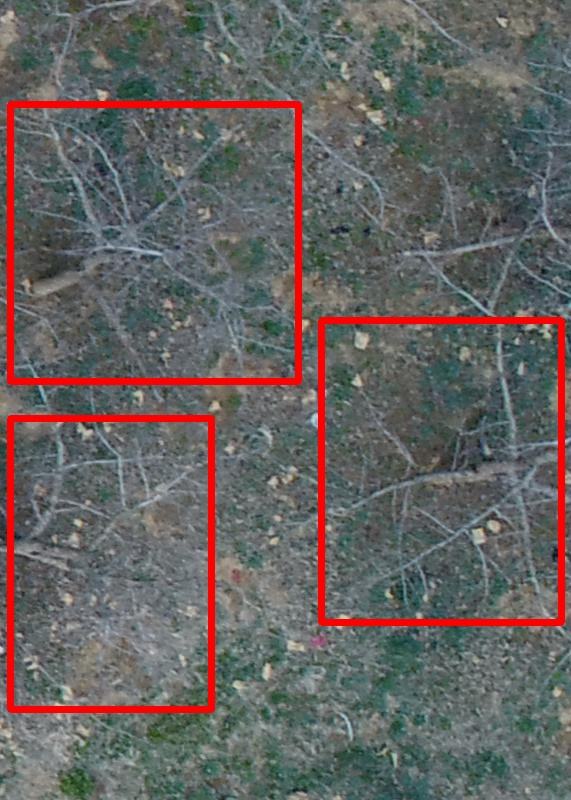apple: (10, 104, 298, 381), (321, 320, 561, 622), (10, 418, 211, 709)
